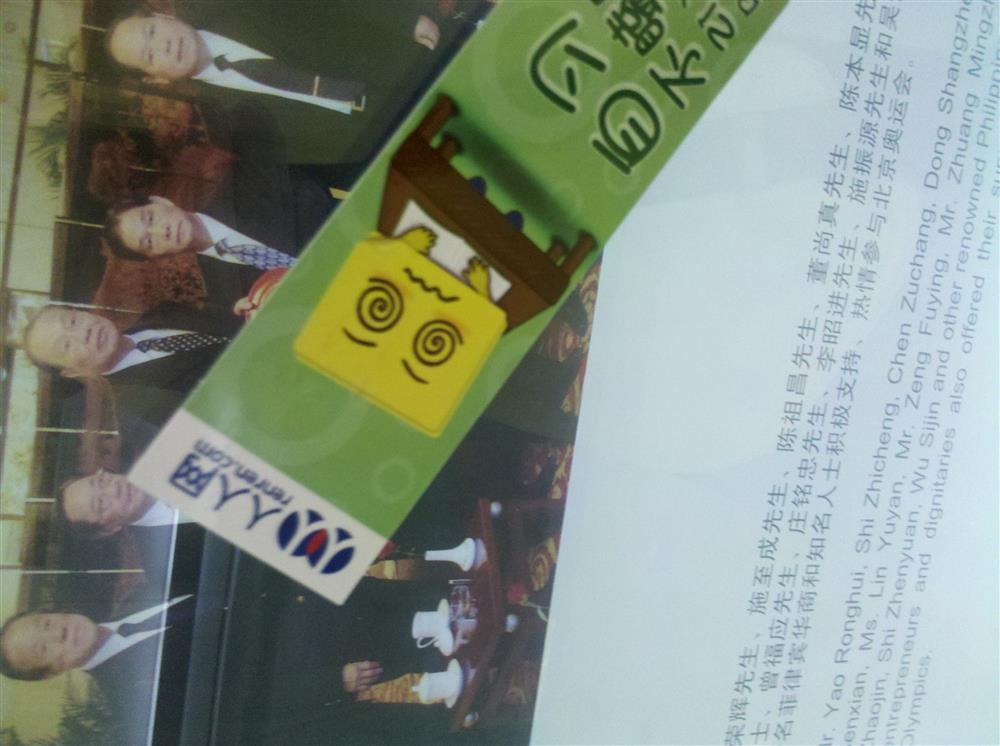Renren_bookmark: (118, 5, 795, 601)
